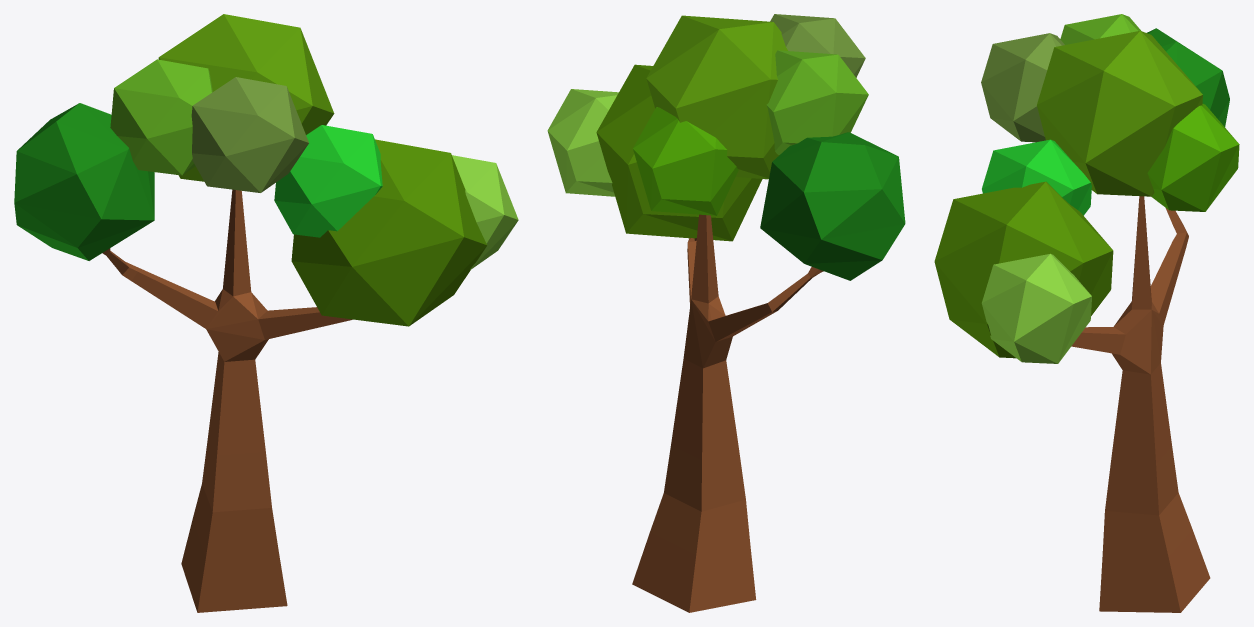
File: tree7.fbx
3 renders of one model, left to right at view 1: azimuth 30°, elevation 25°; view 2: azimuth 150°, elevation 25°; view 3: azimuth 270°, elevation 25°, orthographic. The views are drawn at different scales.
Visible parts, largest first — view 1: Icosphere.005, Cube; view 2: Icosphere.005, Cube; view 3: Icosphere.005, Cube.
Part boxes in pixels (x1,y1,x2,y2): Icosphere.005: [14, 14, 518, 326]; Cube: [102, 189, 352, 612]; Icosphere.005: [547, 14, 905, 280]; Cube: [632, 214, 823, 612]; Icosphere.005: [934, 14, 1239, 363]; Cube: [1071, 196, 1210, 612].
Bounding box in the file's own units: 271 × 354 × 174.
